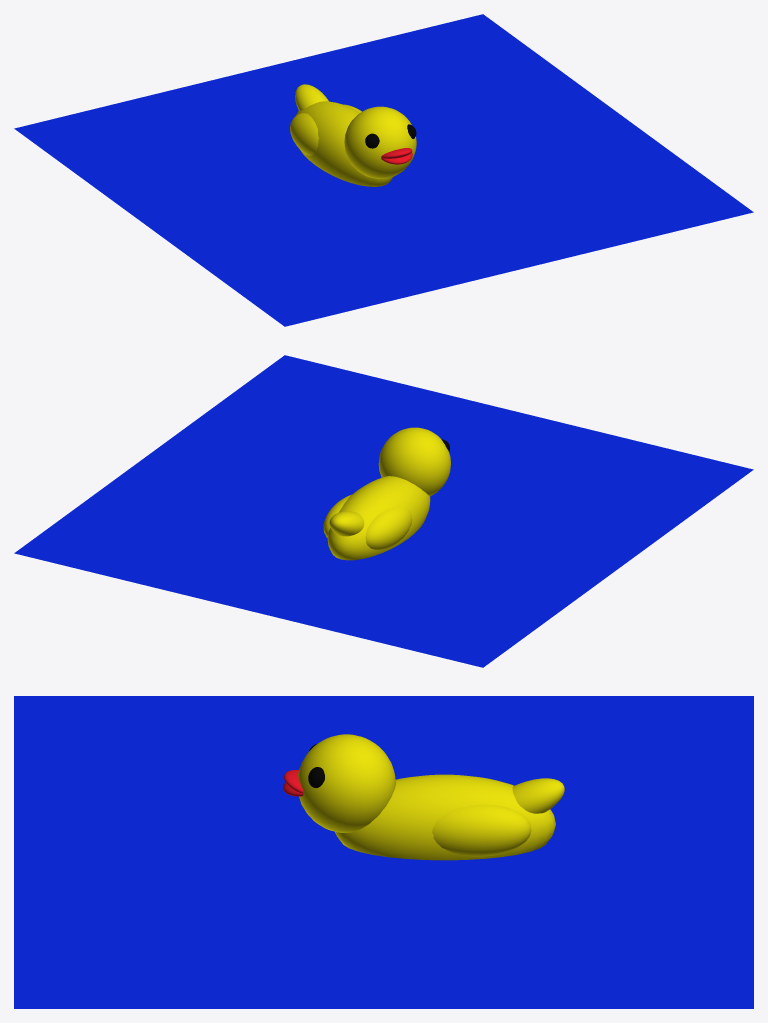
The model's file is duck.glb.
The picture shows the model from 3 angles, top to bottom: view 1: azimuth 30°, elevation 25°; view 2: azimuth 150°, elevation 25°; view 3: azimuth 270°, elevation 25°; orthographic projection. The views are drawn at different scales.
Parts seen in each view (by area): view 1: water, duck; view 2: water, duck; view 3: water, duck.
Boxes of the visible parts, x1,y1,x2,y2 form: water: [14, 14, 753, 326]; duck: [290, 84, 416, 186]; water: [14, 355, 753, 667]; duck: [323, 427, 450, 560]; water: [14, 696, 753, 1008]; duck: [283, 734, 564, 860].
Bounding box in the file's own units: 14.94 × 4.52 × 14.94.
